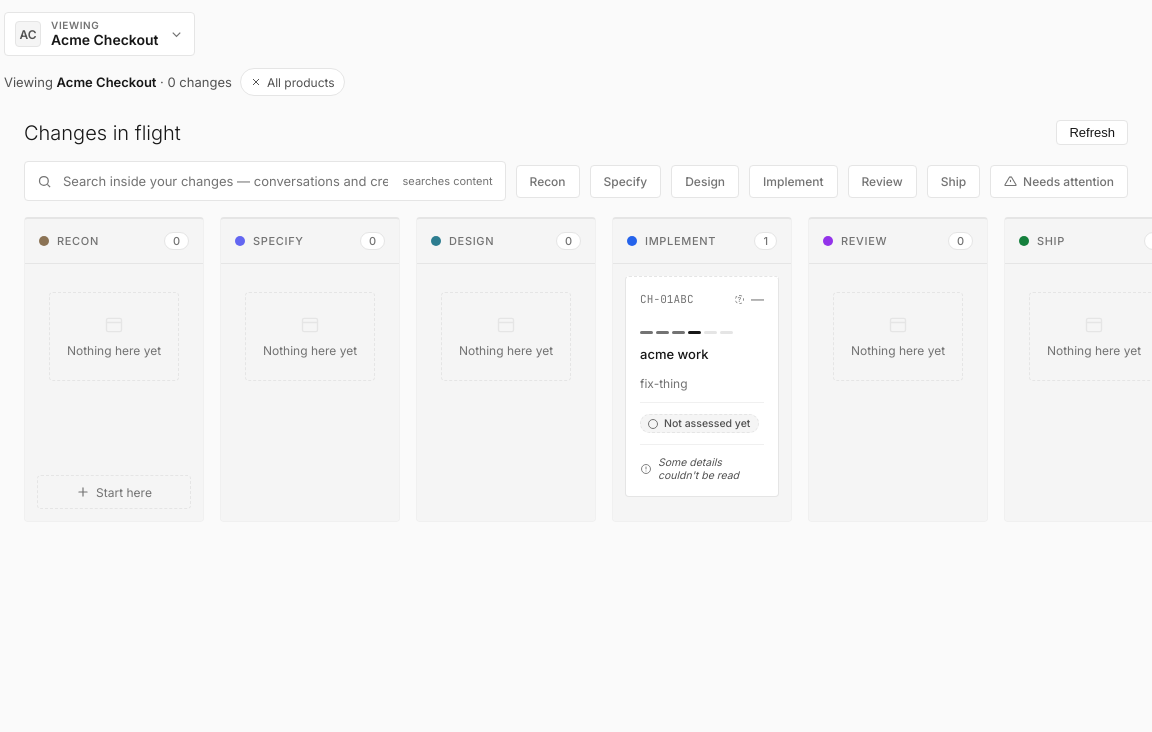
Test: Board re-scopes to the active Product (FR-37) › re-scopes when the founder picks another Product in the switcher — the board re-fetches and the first Product's changes disappear (the journey-K round-trip)
Expected: the text "acme work" is shown, [640,346,708,362]
Click the button with test id "product-control-trigger". click: point(99, 34)
box: [4,12,195,56]
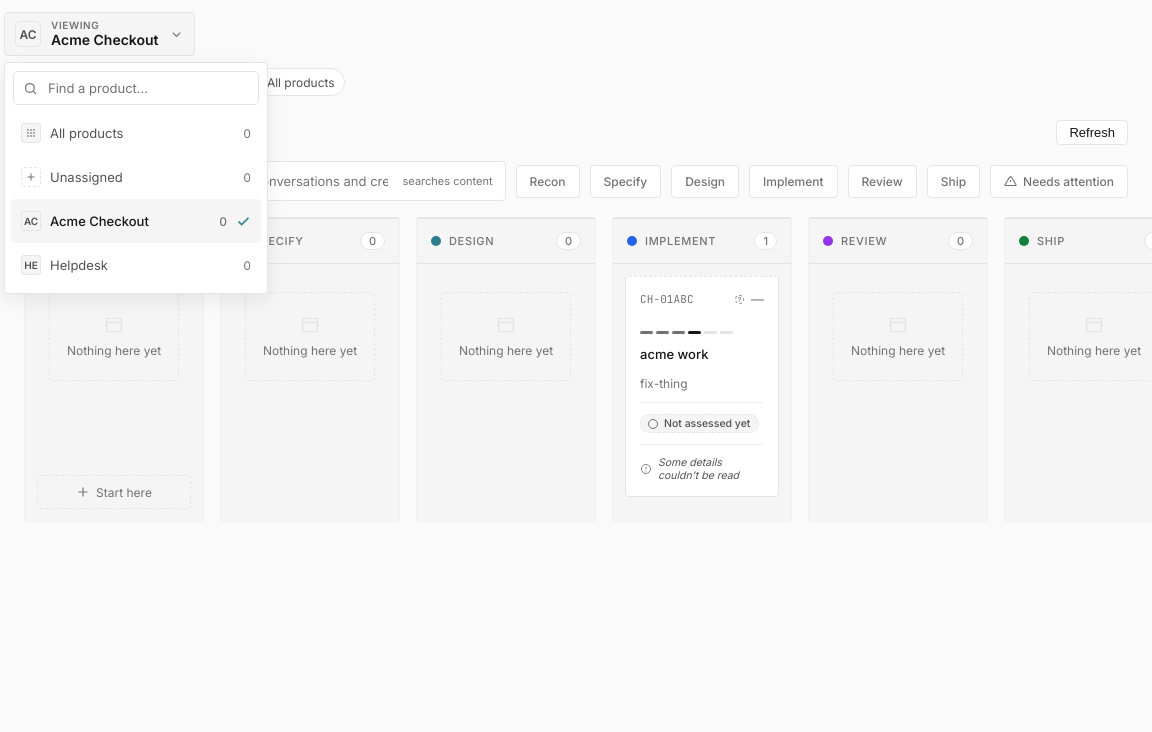
Click the text "Helpdesk". click: point(79, 265)
box: [50,257,108,273]
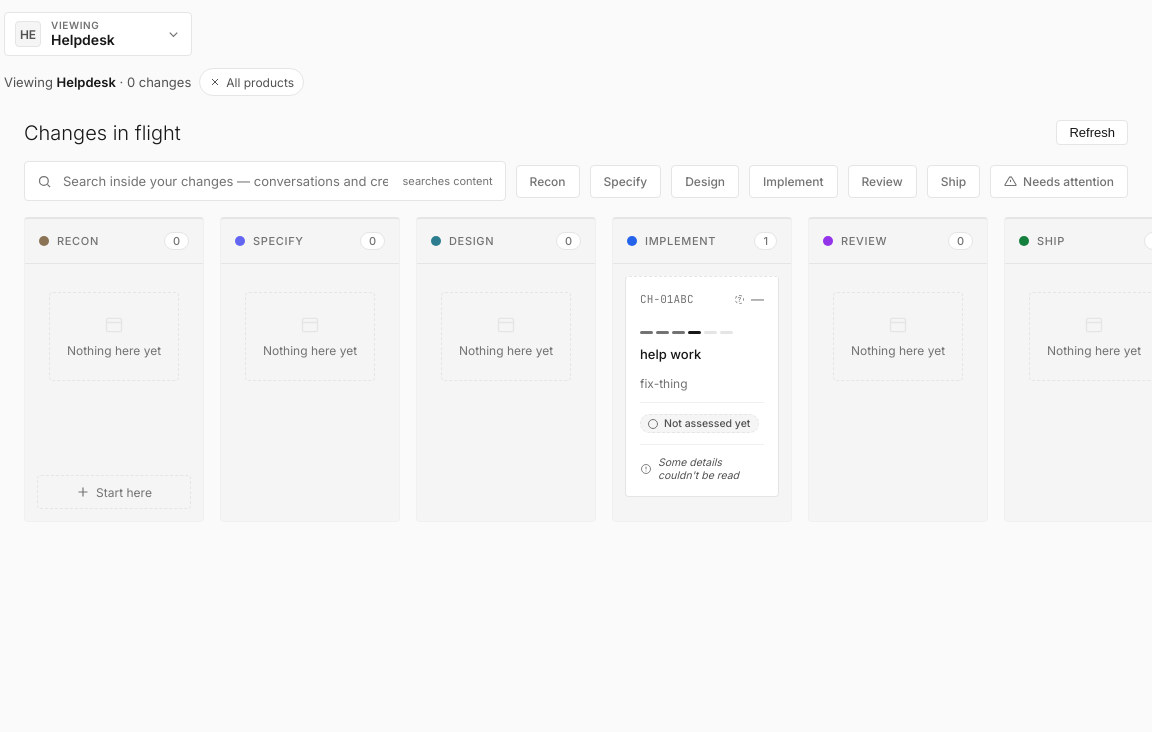
Result: the text "help work" is shown at [640,346,701,362]
Result: the link "acme work" is gone
